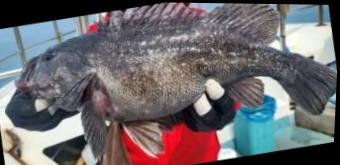fish: (17, 2, 338, 162)
